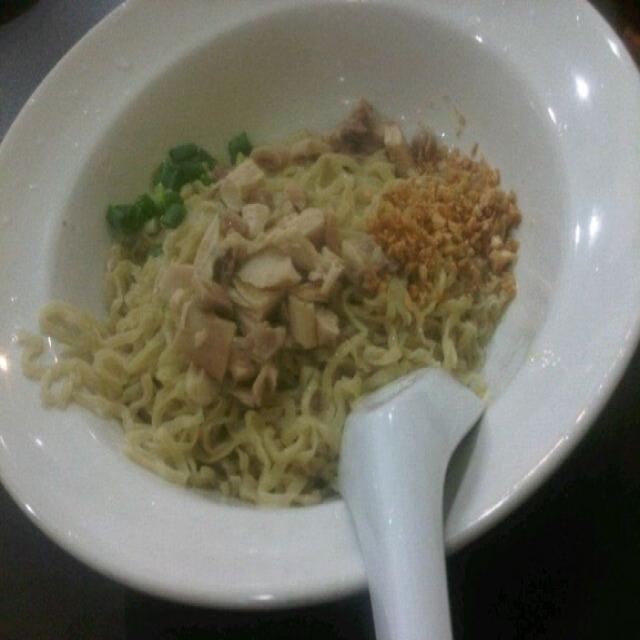面条主食: (28, 21, 631, 597)
